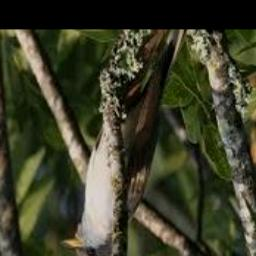Cuckoo: (60, 29, 187, 256)
